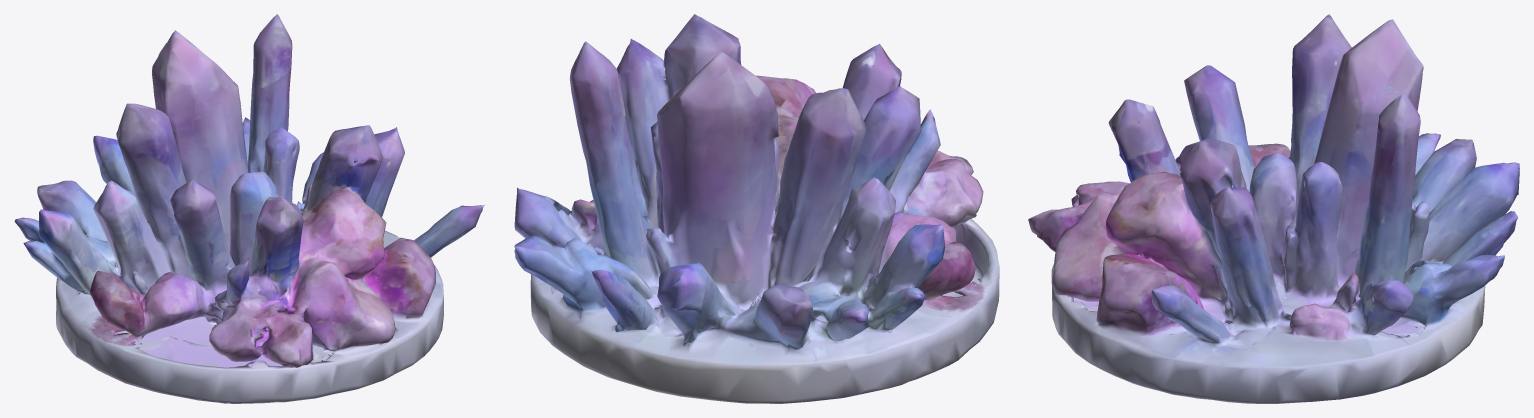
File: A_garden_of_cryst.glb
3 views of the same model, side by side, from view 1: azimuth 30°, elevation 25°; view 2: azimuth 150°, elevation 25°; view 3: azimuth 270°, elevation 25° (orthographic). The views are drawn at different scales.
Parts seen in each view (by area): view 1: A_garden_of_cryst; view 2: A_garden_of_cryst; view 3: A_garden_of_cryst.
Boxes of the visible parts, <box> form: A_garden_of_cryst: <box>14,14,484,403</box>; A_garden_of_cryst: <box>514,14,999,403</box>; A_garden_of_cryst: <box>1028,14,1519,403</box>.
Size of the model in its own units: 1.89 by 1.28 by 1.99.
1 material, 1 textured.
